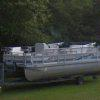Boat: (4, 40, 99, 89)
